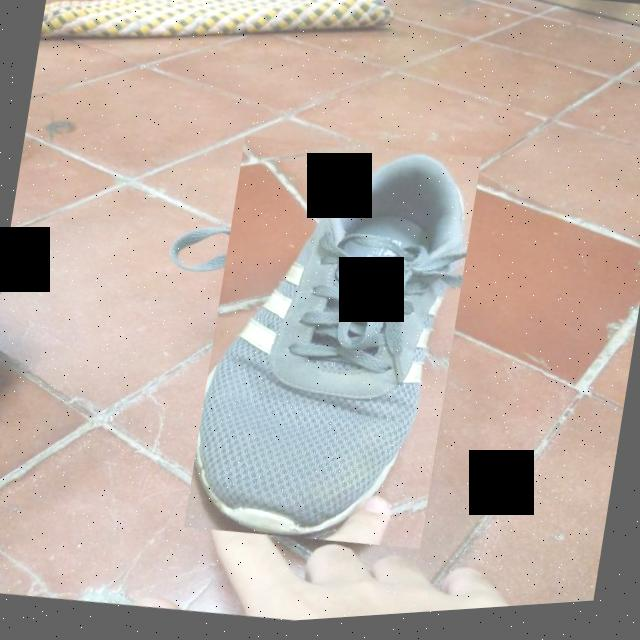shoe: (184, 127, 481, 567)
